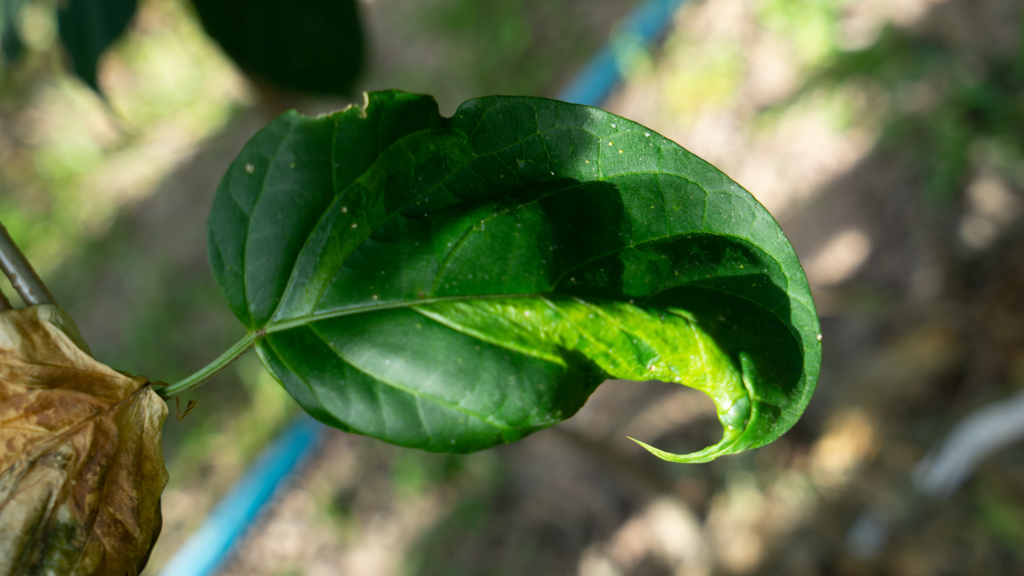Leaf Curl Disease: (218, 65, 823, 484)
